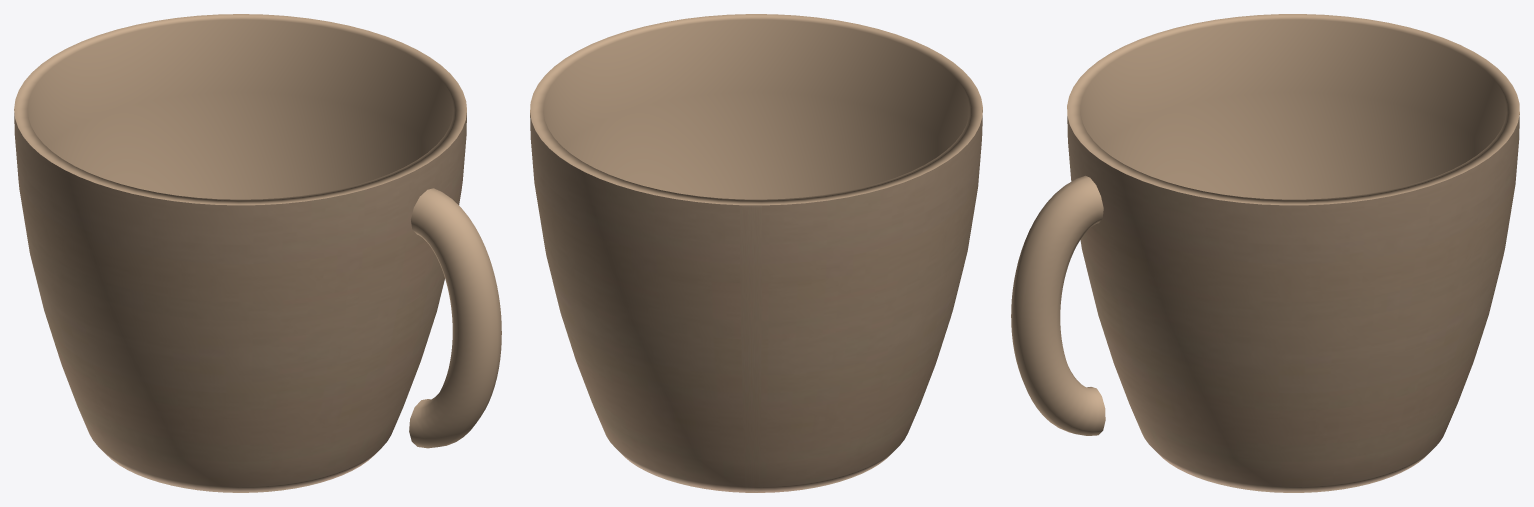
File: CER-06.glb
3 renders of one model, left to right at view 1: azimuth 30°, elevation 25°; view 2: azimuth 150°, elevation 25°; view 3: azimuth 270°, elevation 25°, orthographic.
Size of the model in its own units: 0.0749 by 0.0588 by 0.0842.
3 materials, 1 textured.
